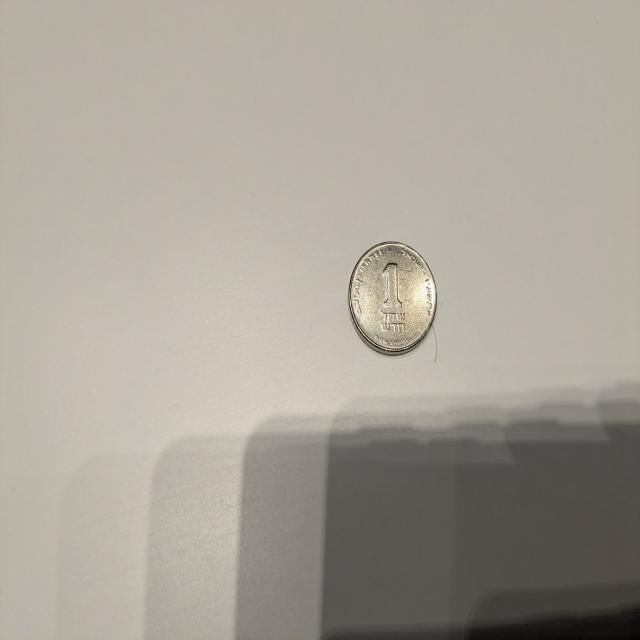1-shekel: (349, 242, 436, 362)
